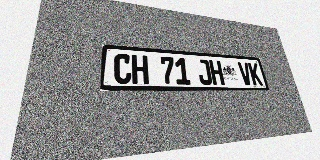1: (174, 57, 191, 85)
7: (159, 56, 176, 84)
C: (114, 53, 131, 84)
H: (132, 55, 149, 84), (209, 60, 225, 85)
J: (196, 59, 213, 85)
K: (248, 63, 263, 85)
V: (237, 62, 253, 85)
